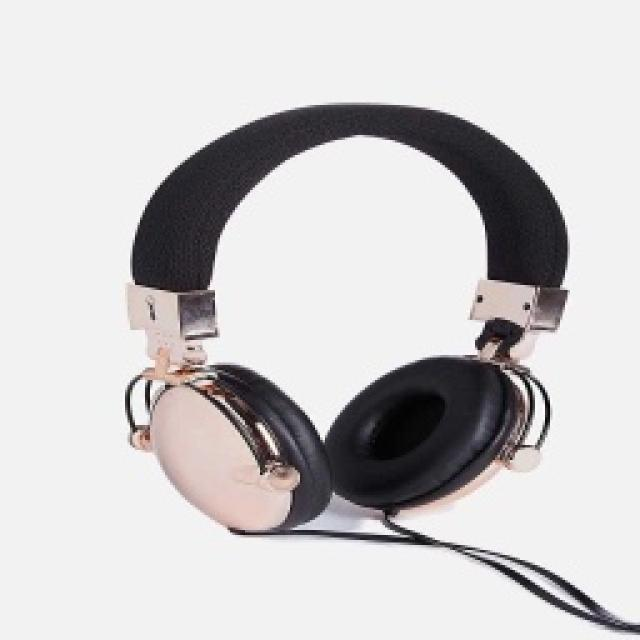headphones: (122, 100, 570, 535)
